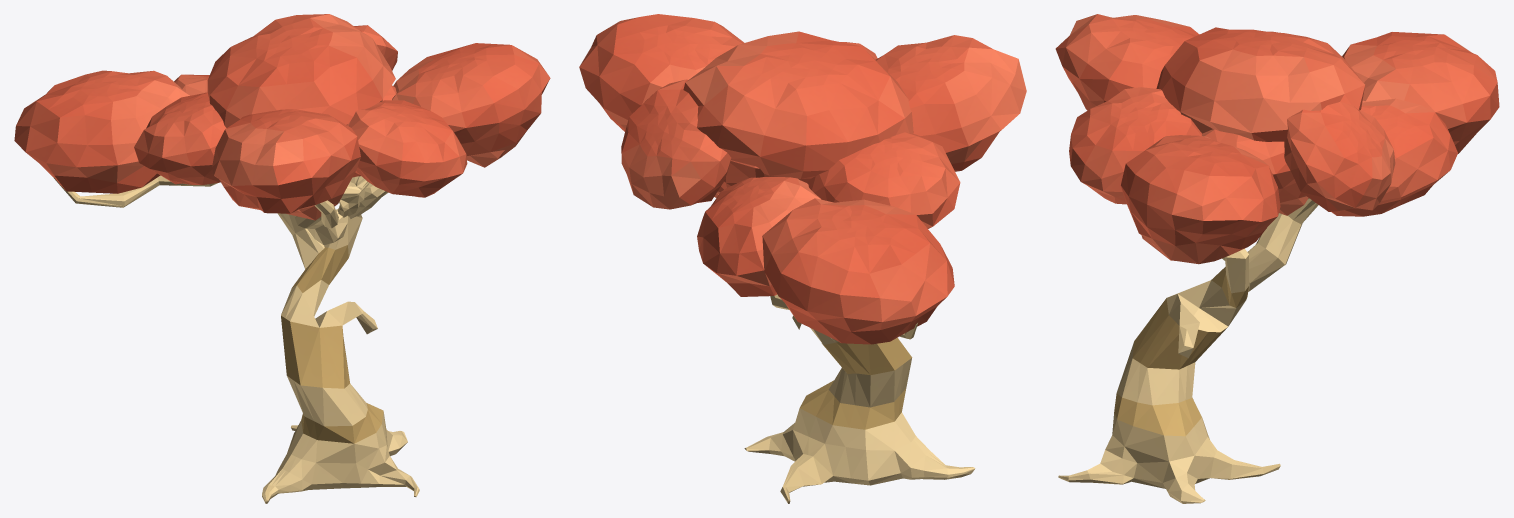
Rendered from tree_3_c.obj.
The picture shows the model from 3 angles, left to right: view 1: azimuth 30°, elevation 25°; view 2: azimuth 150°, elevation 25°; view 3: azimuth 270°, elevation 25°; orthographic projection. The views are drawn at different scales.
Parts seen in each view (by area): view 1: crown_3_c_Material, trunk_3_c_Material; view 2: crown_3_c_Material, trunk_3_c_Material; view 3: crown_3_c_Material, trunk_3_c_Material.
Part boxes in pixels (left/top/right/bottom): crown_3_c_Material: left=14, top=14, right=550, bottom=220; trunk_3_c_Material: left=53, top=175, right=419, bottom=503; crown_3_c_Material: left=579, top=14, right=1026, bottom=344; trunk_3_c_Material: left=744, top=294, right=975, bottom=503; crown_3_c_Material: left=1055, top=14, right=1499, bottom=264; trunk_3_c_Material: left=1058, top=198, right=1318, bottom=503.
Bounding box in the file's own units: 4.75 × 4.32 × 4.05.
